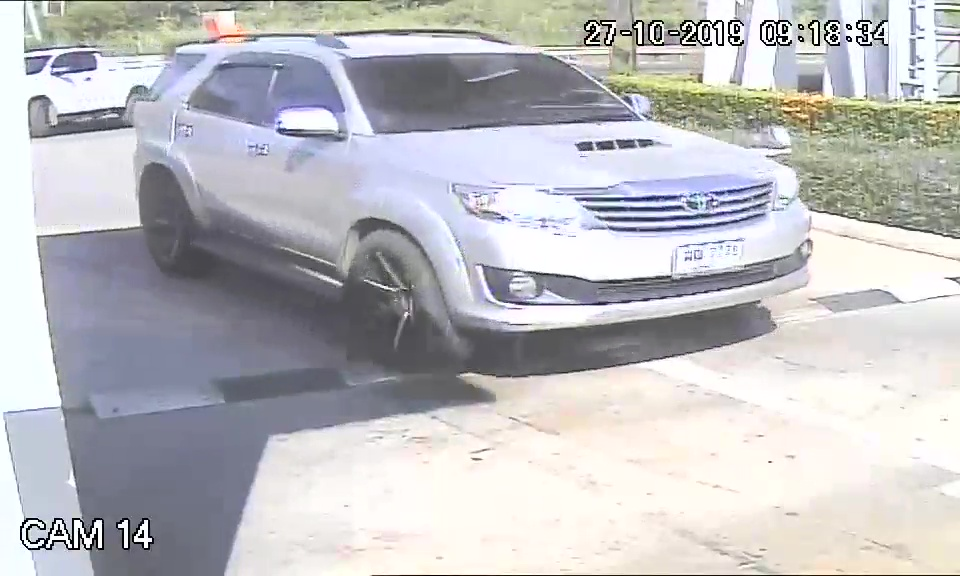pickup: (128, 31, 815, 378)
